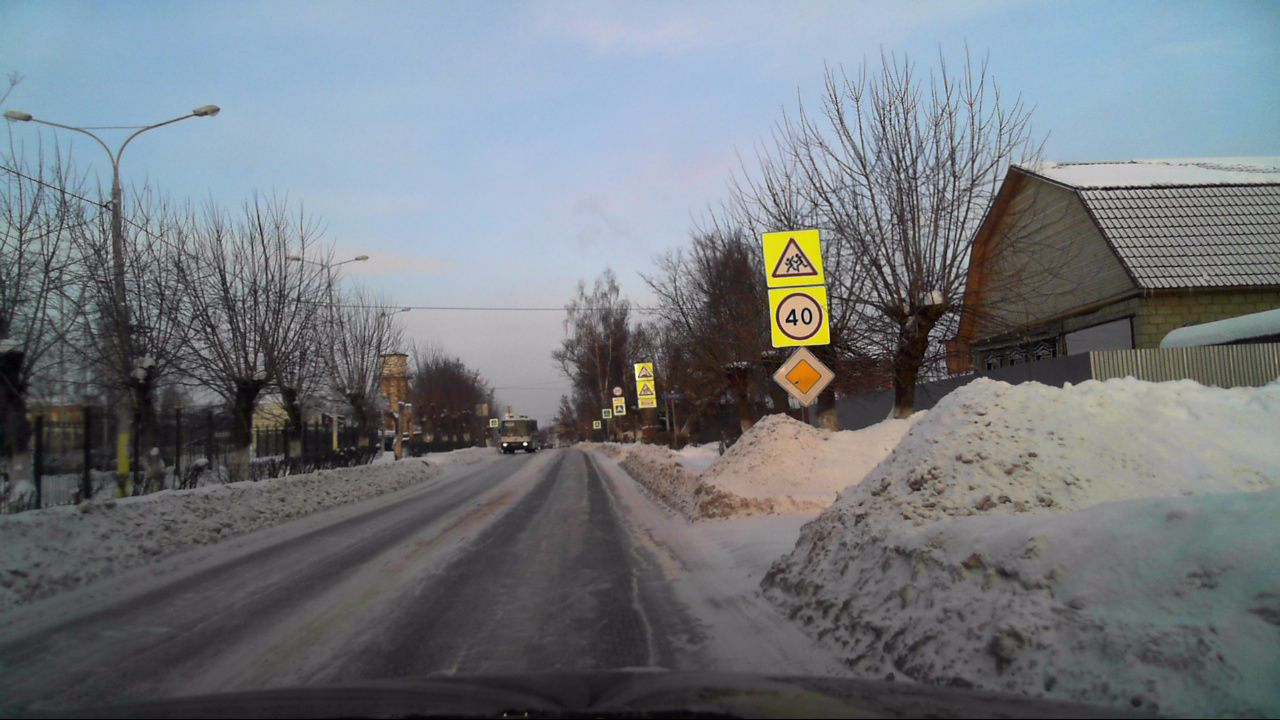speed_warning_40: (767, 285, 830, 346)
